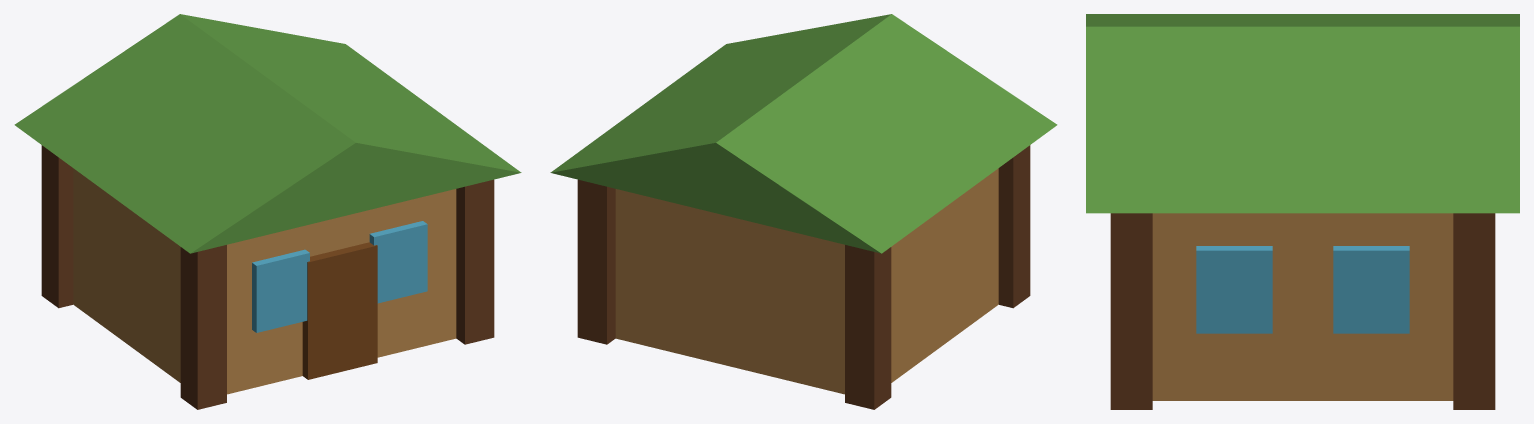
File: garden.glb
The picture shows the model from 3 angles, left to right: view 1: azimuth 30°, elevation 25°; view 2: azimuth 150°, elevation 25°; view 3: azimuth 270°, elevation 25°; orthographic projection. The views are drawn at different scales.
Visible parts, largest first — view 1: beams; view 2: beams; view 3: beams.
Part boxes in pixels (box(x1,y1,x2,y2)): beams: box(14, 14, 521, 409); beams: box(550, 14, 1057, 409); beams: box(1086, 14, 1519, 409).
Size of the model in its own units: 1.24 by 0.852 by 1.14.
